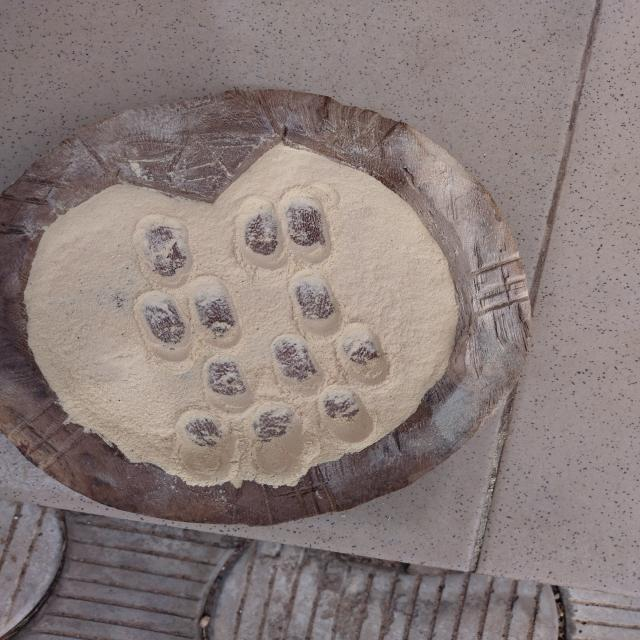double: (176, 402, 317, 484), (230, 186, 342, 274), (120, 277, 244, 356), (268, 328, 402, 390)
single: (130, 214, 200, 286), (282, 266, 346, 336), (314, 388, 379, 446), (202, 350, 260, 412)
